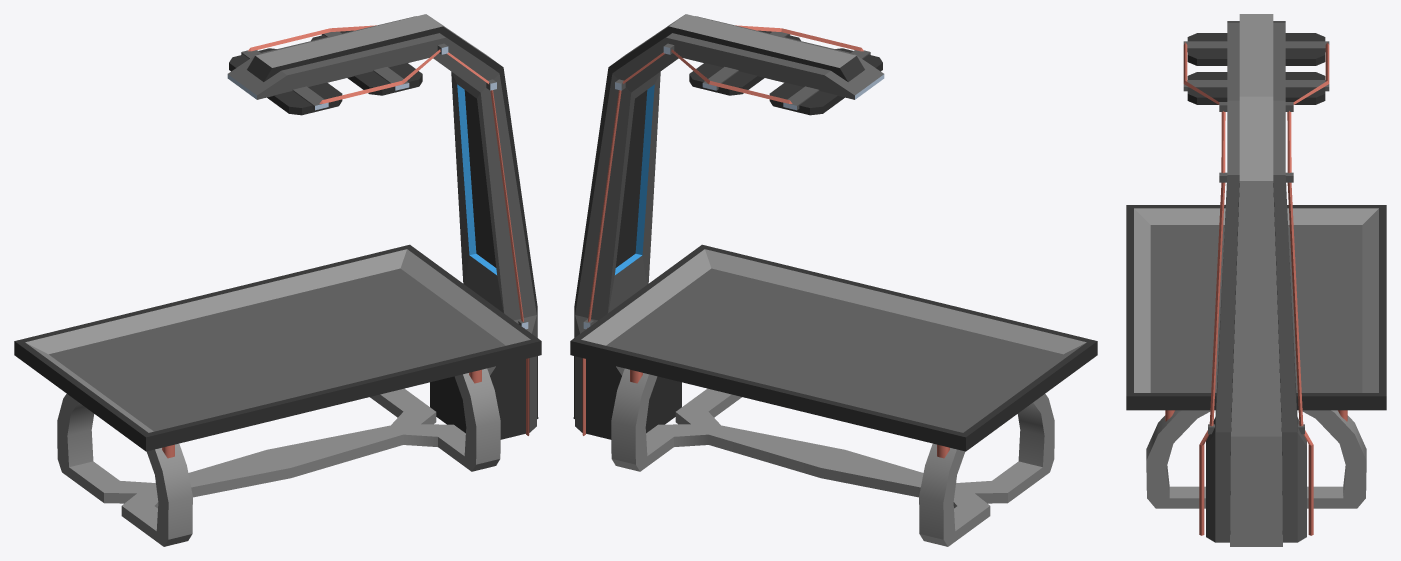
Rendered from Operation_Table.fbx.
3 views of the same model, side by side, from view 1: azimuth 30°, elevation 25°; view 2: azimuth 150°, elevation 25°; view 3: azimuth 270°, elevation 25° (orthographic).
Parts seen in each view (by area): view 1: Operation_Table; view 2: Operation_Table; view 3: Operation_Table.
Part boxes in pixels (bbox=[...]): Operation_Table: bbox=[14, 14, 541, 546]; Operation_Table: bbox=[570, 14, 1097, 546]; Operation_Table: bbox=[1126, 14, 1386, 546].
Bounding box in the file's own units: 303 × 268 × 155.
